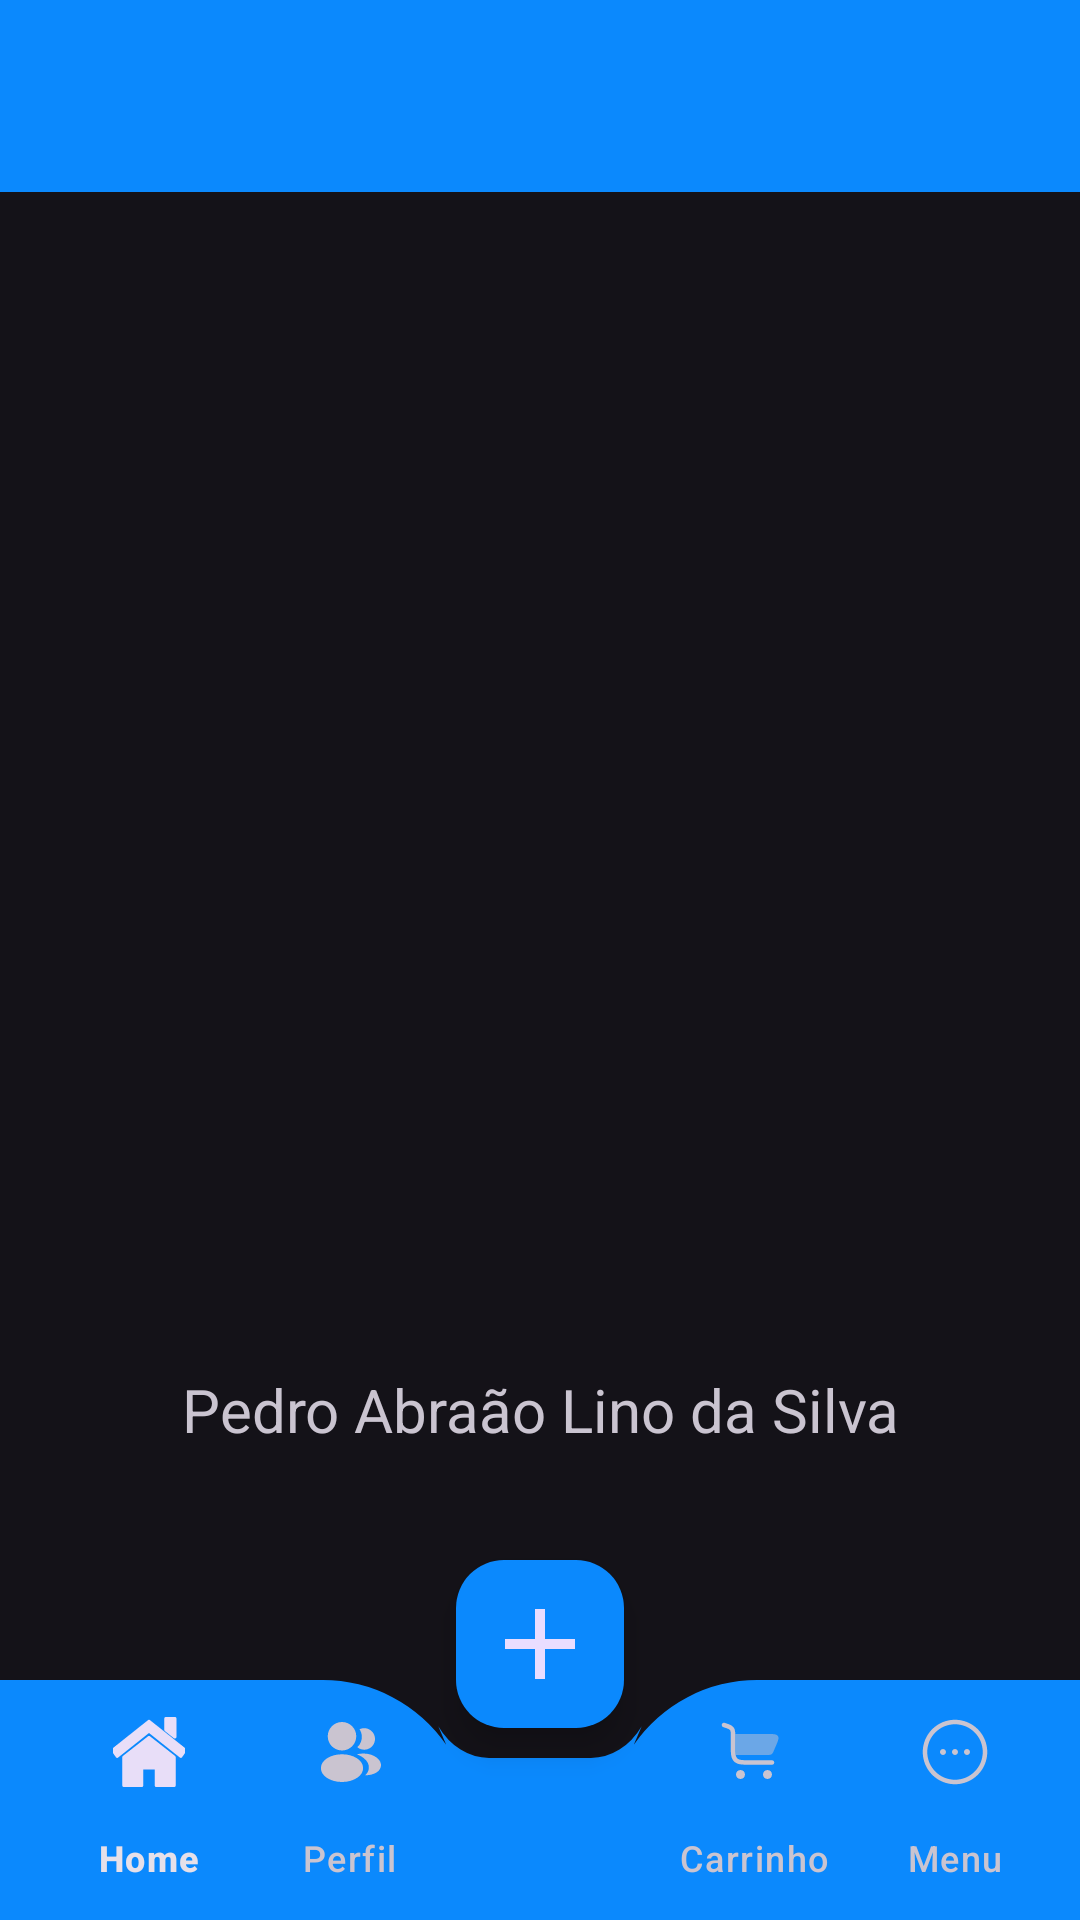

Screen size 1080px×1920px. Icon name, then its center in pixels as (x=x, y=y):
Adicionar: (x=540, y=1680)
